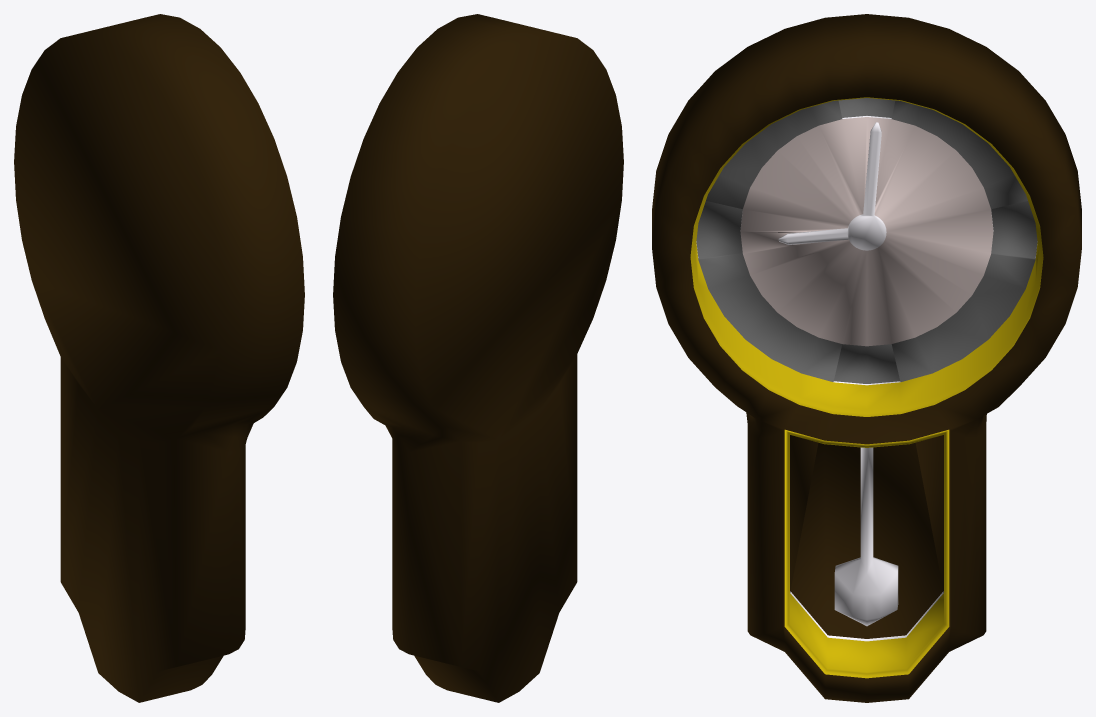
File: Clock.fbx
3 views of the same model, side by side, from view 1: azimuth 30°, elevation 25°; view 2: azimuth 150°, elevation 25°; view 3: azimuth 270°, elevation 25° (orthographic). The views are drawn at different scales.
Visible parts, largest first — view 1: Cylinder; view 2: Cylinder; view 3: Cylinder.
Boxes of the visible parts, x1=… form: Cylinder: x1=14, y1=14, x2=304, y2=702; Cylinder: x1=333, y1=14, x2=623, y2=702; Cylinder: x1=652, y1=14, x2=1081, y2=702.
Size of the model in its own units: 8.32 by 52.88 by 31.2.
